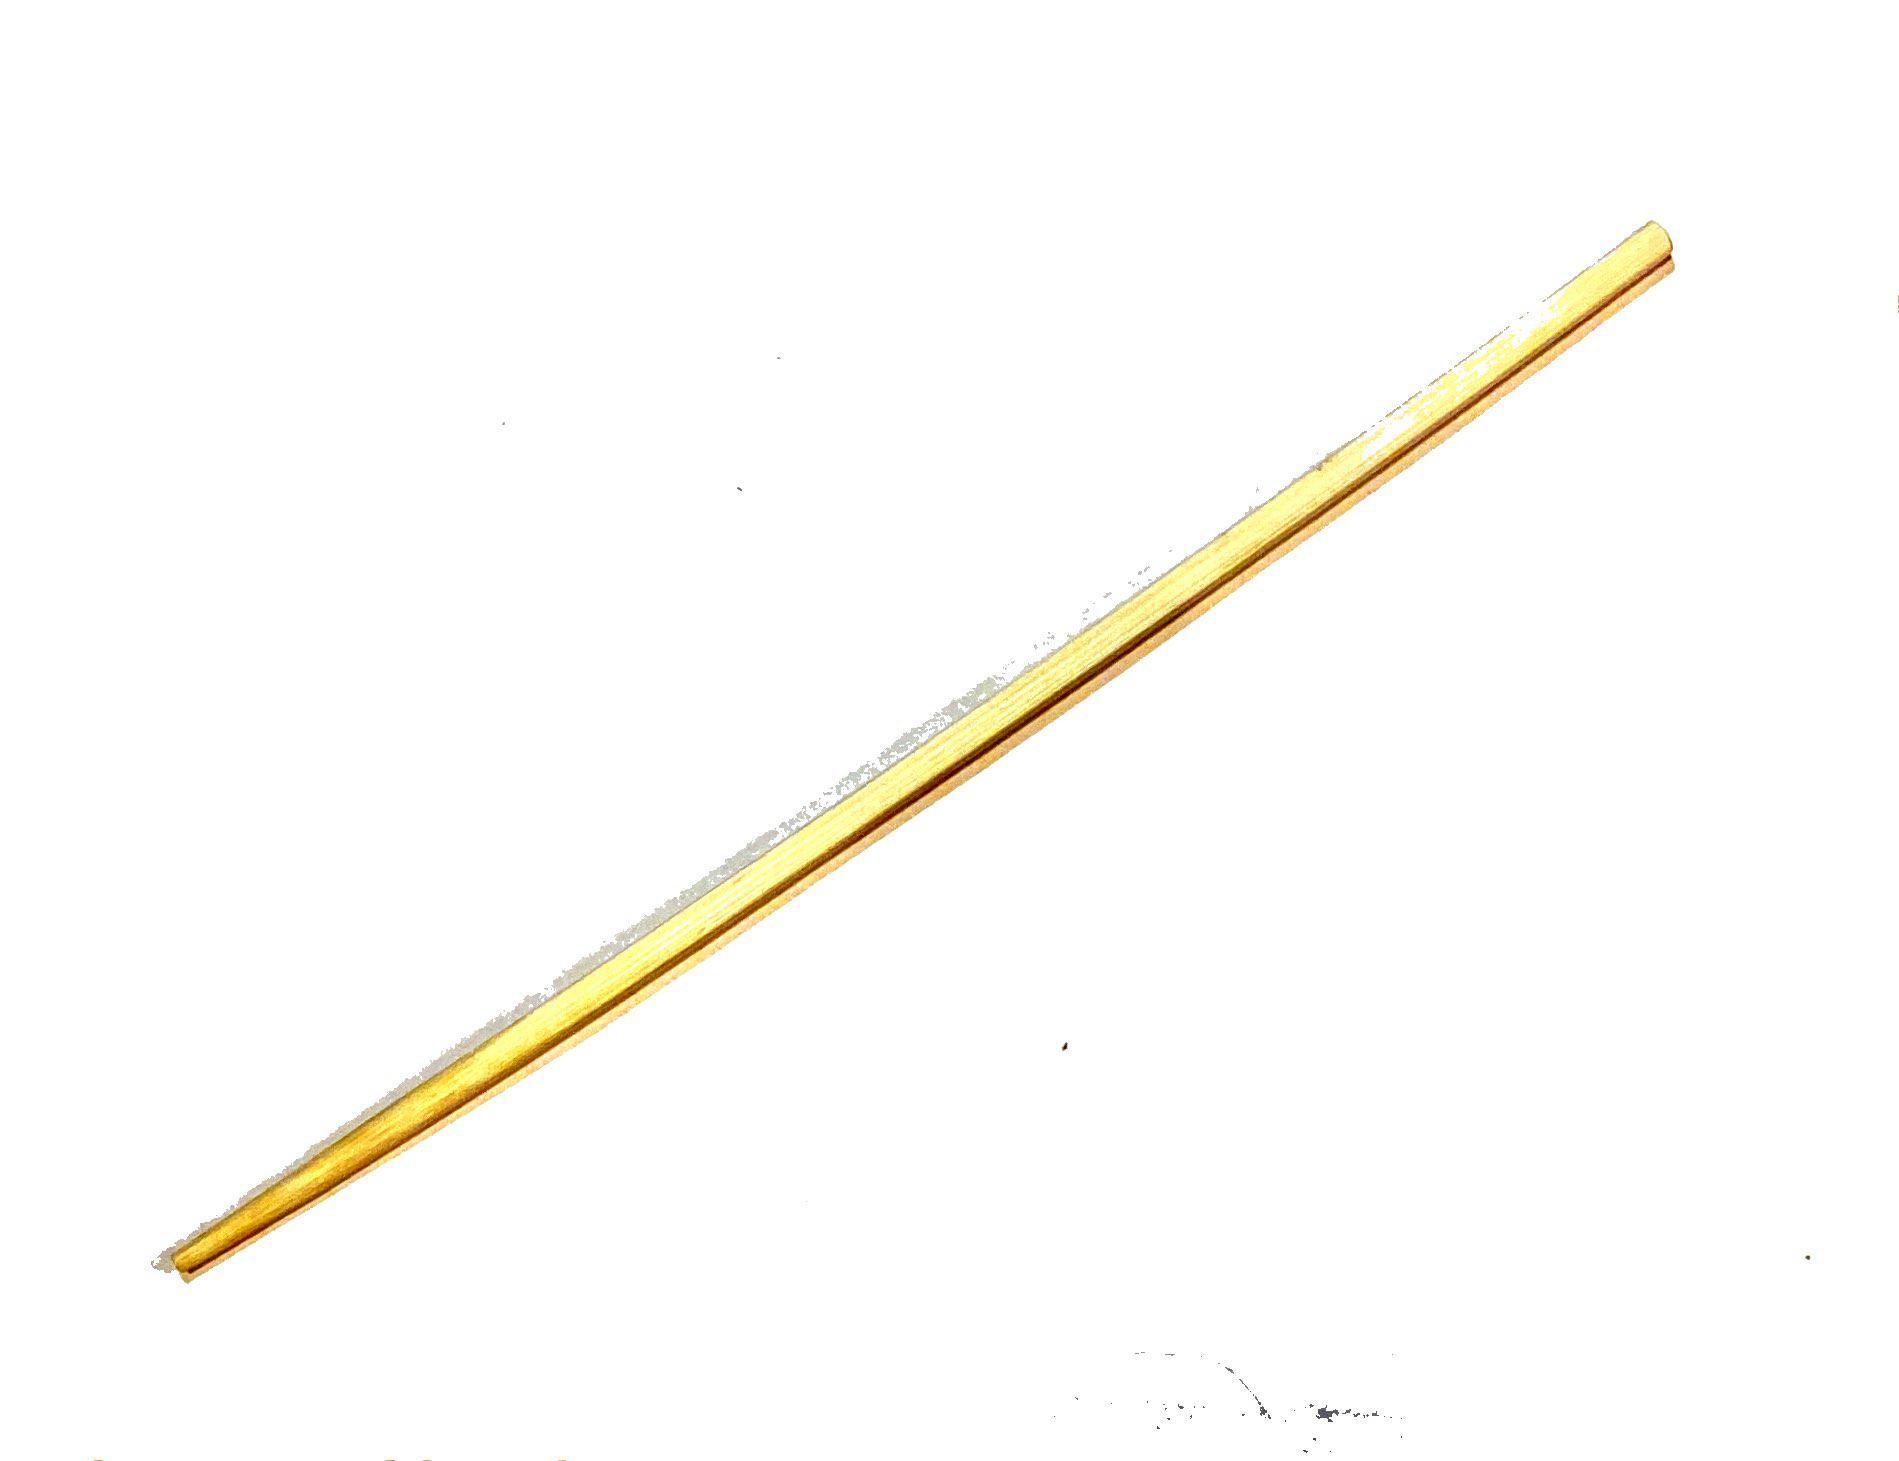Chopstick: (147, 160, 1743, 1326)
